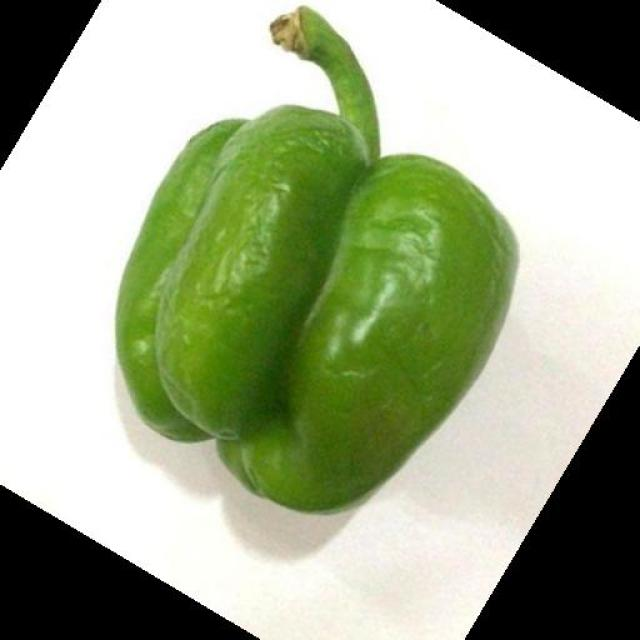Fresh_Capsicum: (146, 20, 475, 487)
